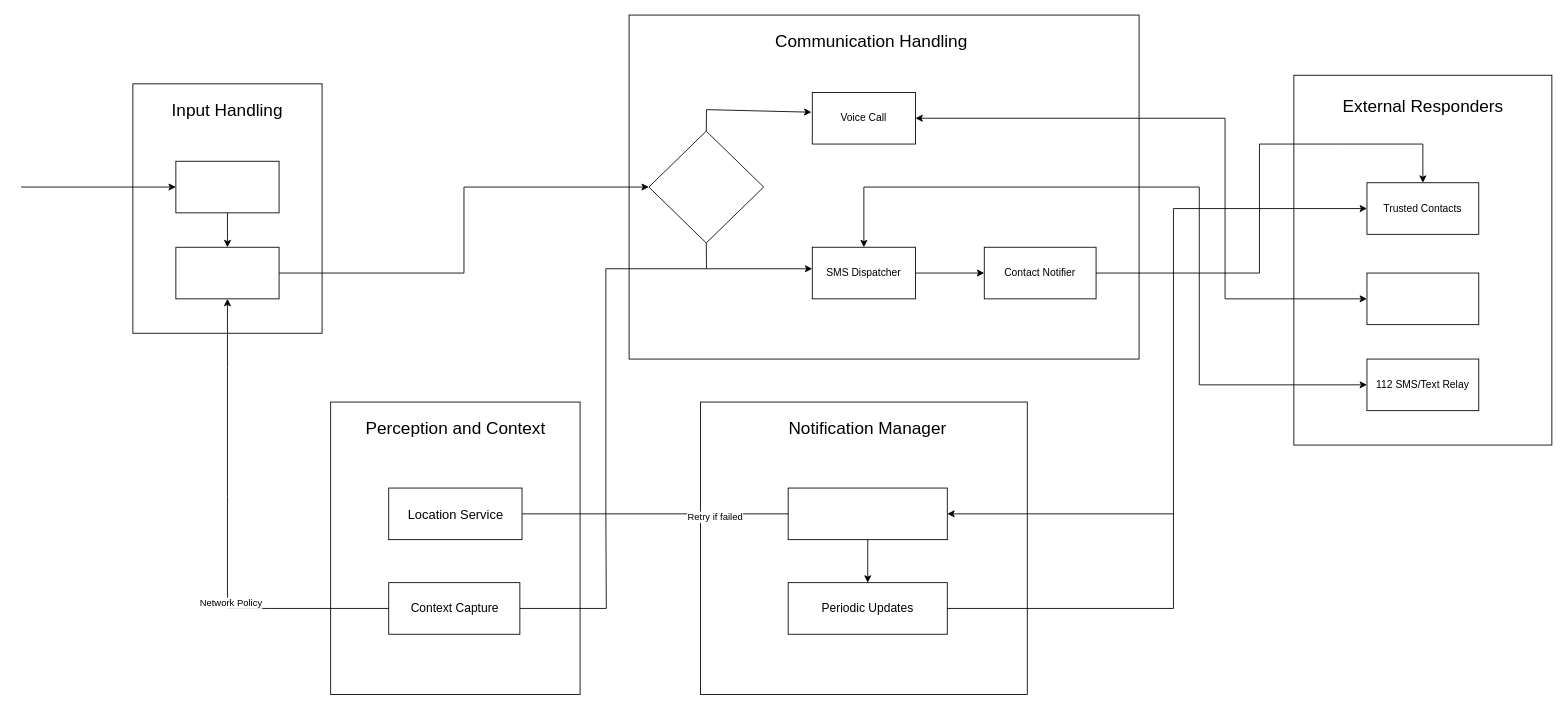
This 1567x710 diagram has some shape labels left out. Each missing label, with the centre of its shape:
119/222 ECAS (Voice): (1422,298)
Acknowledgement Tracker: (867,513)
Mode of response: (706,186)
Trigger Detection: (227,186)
